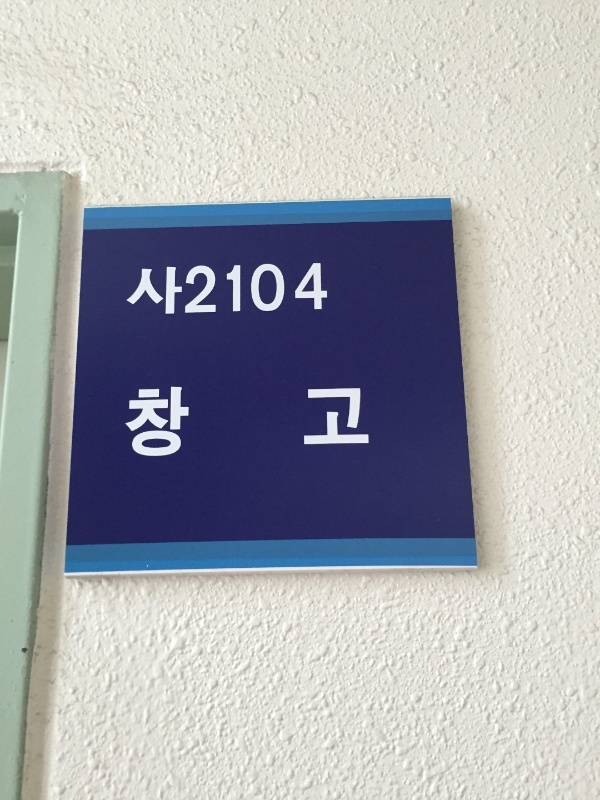text: (129, 384, 144, 462), (145, 384, 160, 462), (161, 384, 176, 462), (177, 384, 192, 462), (193, 384, 208, 462), (209, 384, 224, 462), (225, 384, 240, 462), (241, 384, 256, 462), (257, 384, 272, 462), (273, 384, 288, 462), (289, 384, 304, 462), (305, 384, 320, 462), (321, 384, 336, 462), (337, 384, 352, 462), (353, 384, 368, 462), (129, 261, 144, 318), (145, 261, 160, 318), (161, 261, 176, 318), (177, 261, 192, 318), (193, 261, 208, 318), (209, 261, 224, 318), (225, 261, 240, 318), (241, 261, 256, 318), (257, 261, 272, 318), (273, 261, 288, 318), (289, 261, 304, 318), (305, 261, 320, 318), (321, 261, 330, 318), (125, 384, 128, 462), (369, 384, 372, 462), (124, 261, 128, 318)
